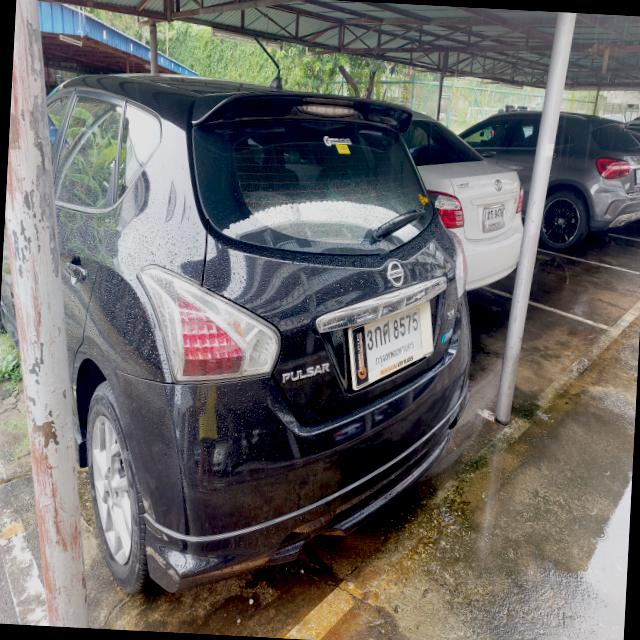license_plate: (344, 294, 437, 397), (480, 198, 510, 236), (634, 168, 640, 189)
